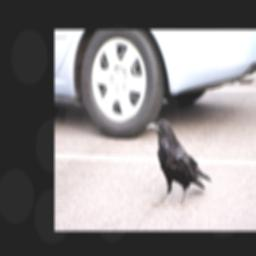Crow: (147, 117, 213, 208)
